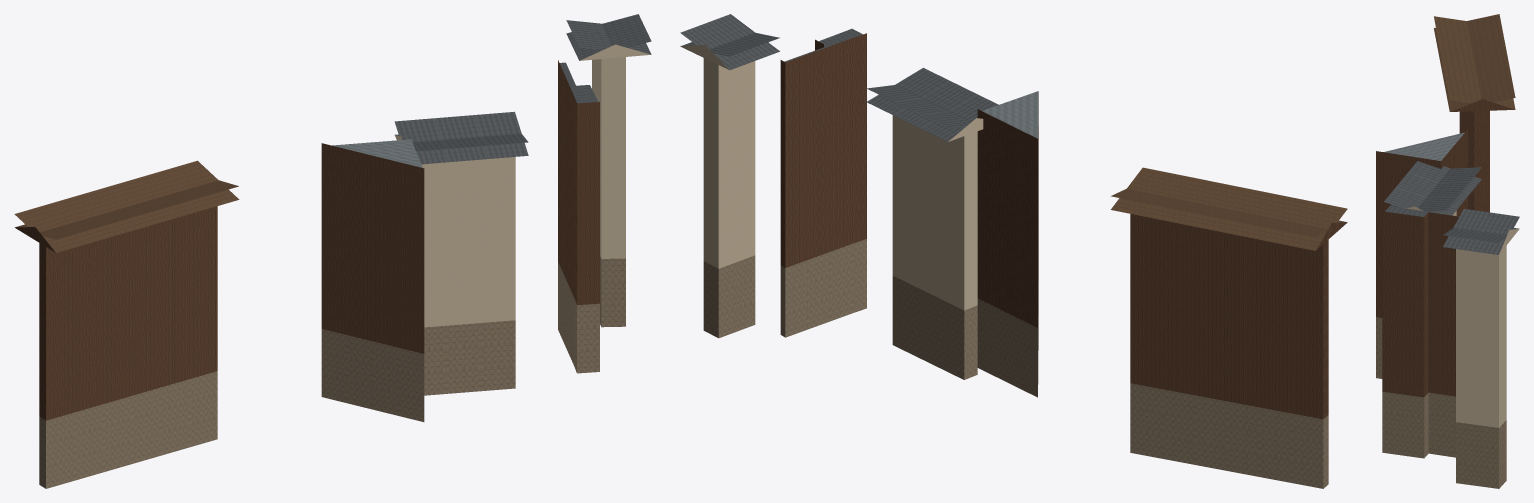
The model's file is bld_c4_-3_562.gltf.
3 renders of one model, left to right at view 1: azimuth 30°, elevation 25°; view 2: azimuth 150°, elevation 25°; view 3: azimuth 270°, elevation 25°, orthographic. The views are drawn at different scales.
Visible parts, largest first — view 1: bld_c4_-3_562; view 2: bld_c4_-3_562; view 3: bld_c4_-3_562.
Part boxes in pixels (x1,y1,x2,y2): bld_c4_-3_562: (14, 14, 651, 488); bld_c4_-3_562: (680, 14, 1347, 488); bld_c4_-3_562: (1376, 14, 1519, 488).
Size of the model in its own units: 48.8 by 23.1 by 10.91.
Materials: 8 (8 with a texture image).
